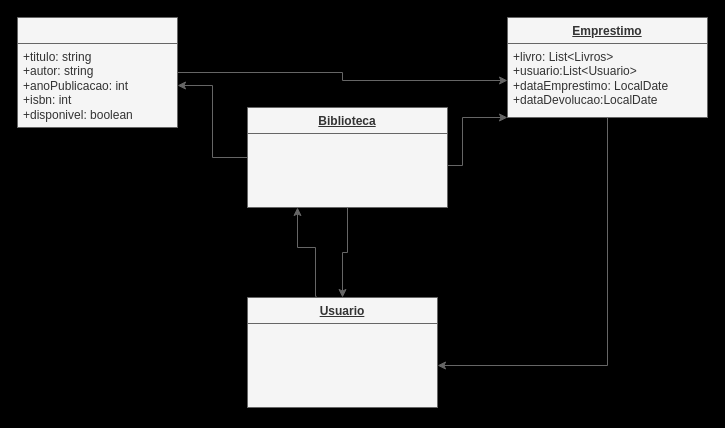
Image size: 725x428. Some labels were removed from this diagram. Here are the shapes that lost their labels. From the top down, the box of each, then its label:
(16, 16, 178, 128): Livros
(246, 132, 448, 208): +livros List<Livros> +usuarios: List<Usuario> +emprestimos:List<Emprestimo>
(246, 322, 438, 408): +nome: s tring +matricula: int +telefone: int +emprestimos:List<Emprestimo>
